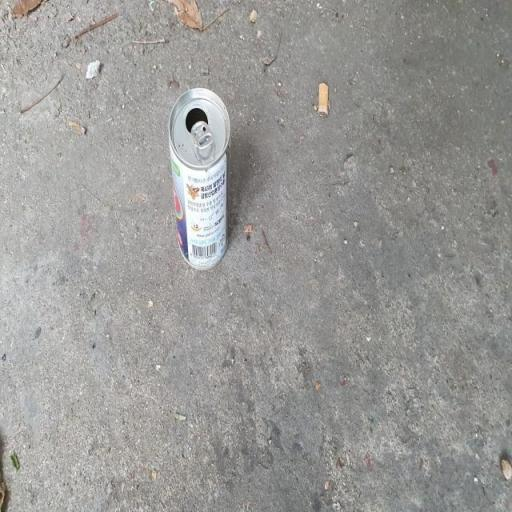metal: (156, 60, 280, 342)
